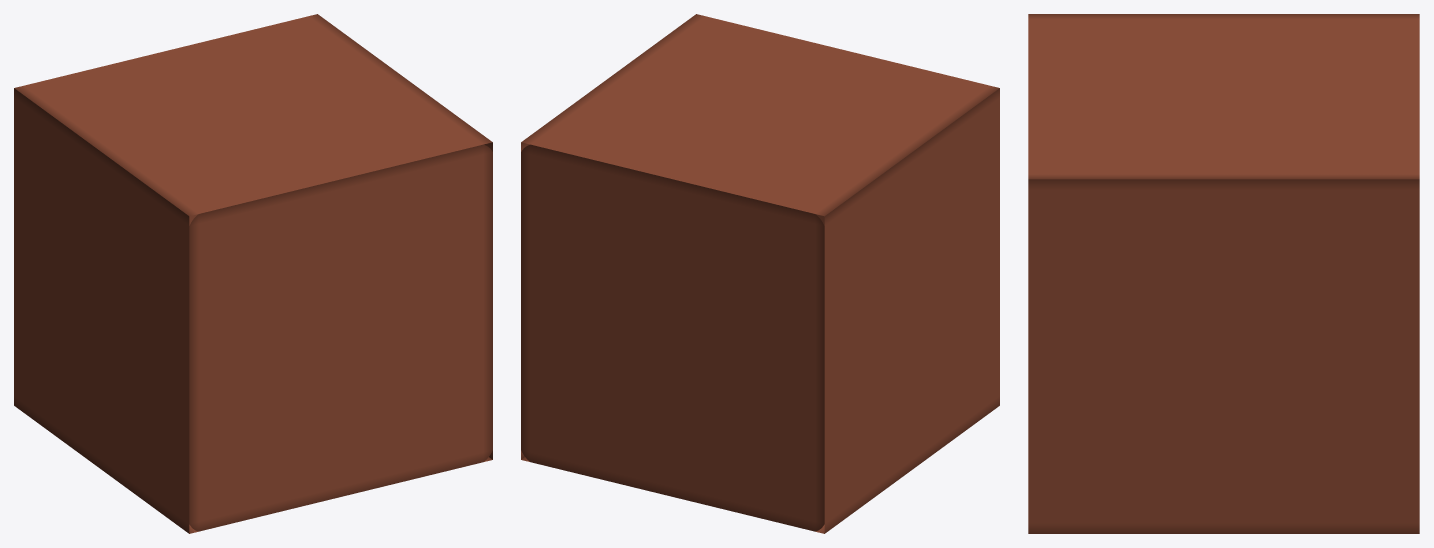
File: basic.obj
3 views of the same model, side by side, from view 1: azimuth 30°, elevation 25°; view 2: azimuth 150°, elevation 25°; view 3: azimuth 270°, elevation 25° (orthographic). The views are drawn at different scales.
Size of the model in its own units: 8 by 8 by 8.
1 material, 1 textured.
